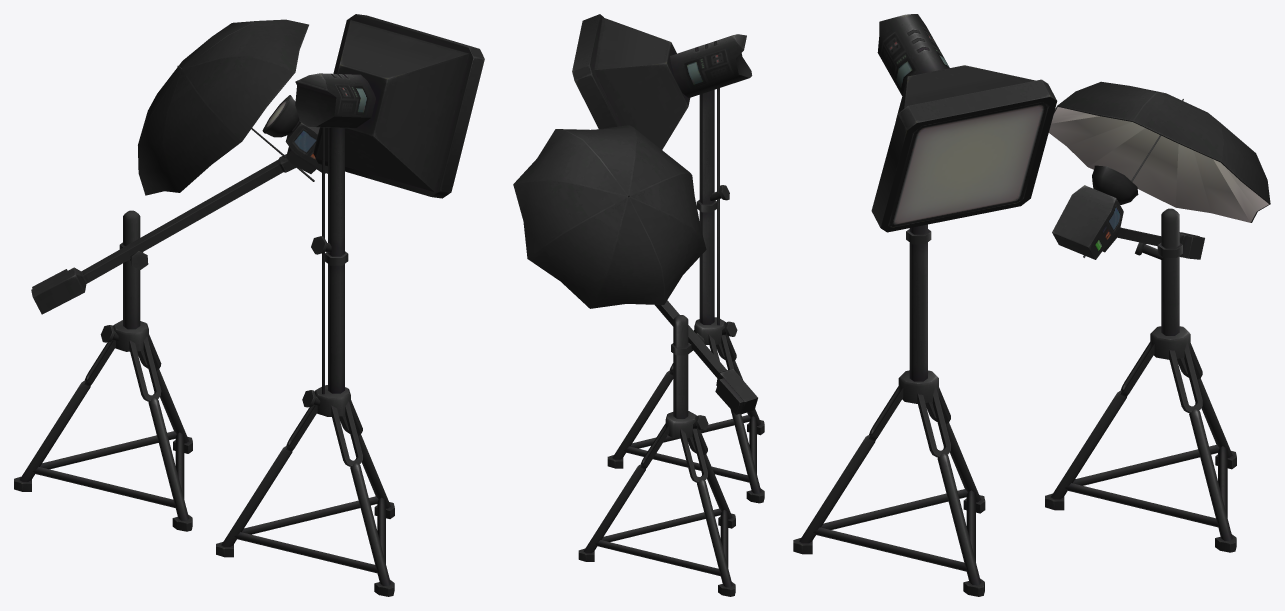
The model's file is furn_syp2017_deco_002.gltf.
3 renders of one model, left to right at view 1: azimuth 30°, elevation 25°; view 2: azimuth 150°, elevation 25°; view 3: azimuth 270°, elevation 25°, orthographic. The views are drawn at different scales.
Visible parts, largest first — view 1: syp2017_deco_002; view 2: syp2017_deco_002; view 3: syp2017_deco_002.
Boxes of the visible parts, box(x1,y1,x2,y2) form: syp2017_deco_002: box(14, 14, 484, 596); syp2017_deco_002: box(513, 14, 764, 596); syp2017_deco_002: box(793, 14, 1270, 596).
Size of the model in its own units: 0.6579 by 0.9504 by 0.7825.
1 material, 1 textured.
